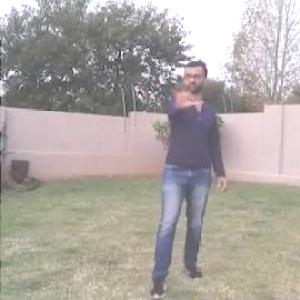follow_hand: (163, 69, 200, 110)
